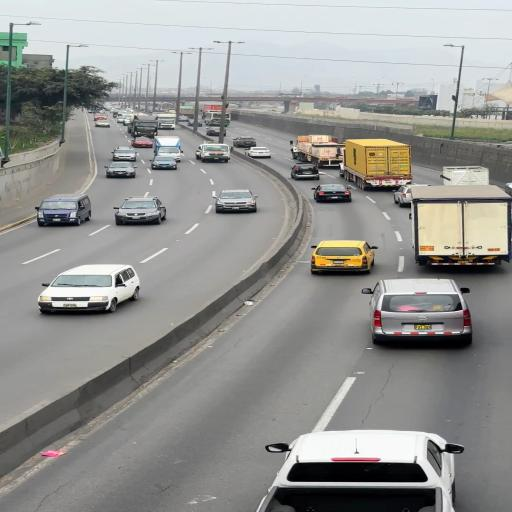auto: (254, 428, 458, 510), (362, 278, 472, 344), (38, 264, 140, 312), (308, 240, 374, 274), (30, 194, 94, 229), (112, 195, 167, 225), (212, 189, 260, 214), (393, 183, 434, 206), (310, 183, 352, 203), (195, 141, 232, 163), (152, 136, 182, 158), (105, 161, 138, 178), (131, 117, 159, 137), (289, 163, 321, 180), (149, 155, 179, 170), (110, 147, 138, 162), (202, 111, 230, 126), (155, 114, 178, 131), (244, 147, 272, 158), (130, 136, 154, 148), (232, 136, 258, 147), (118, 112, 137, 126), (206, 126, 226, 136), (94, 119, 110, 127), (187, 119, 203, 126), (94, 114, 107, 121)
bus: (408, 186, 510, 262), (343, 138, 410, 178), (308, 134, 335, 144)
